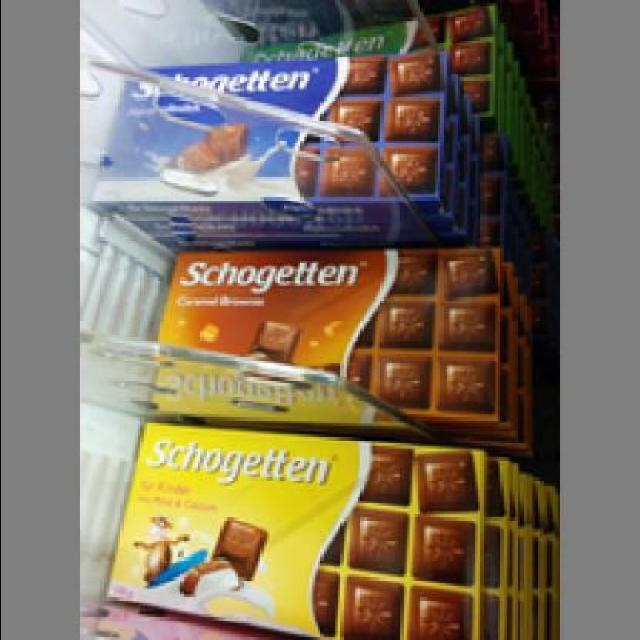Chocolate bar: (108, 417, 484, 637), (153, 234, 510, 416), (104, 46, 448, 209)
